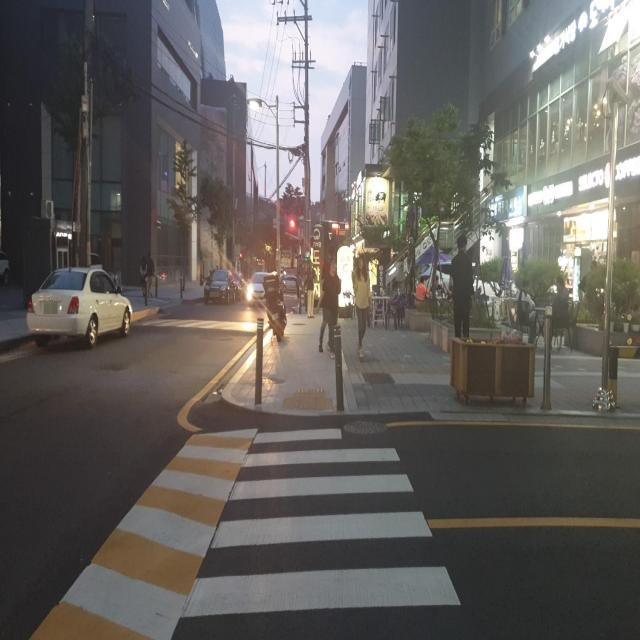횡단보도: (179, 424, 464, 620)
